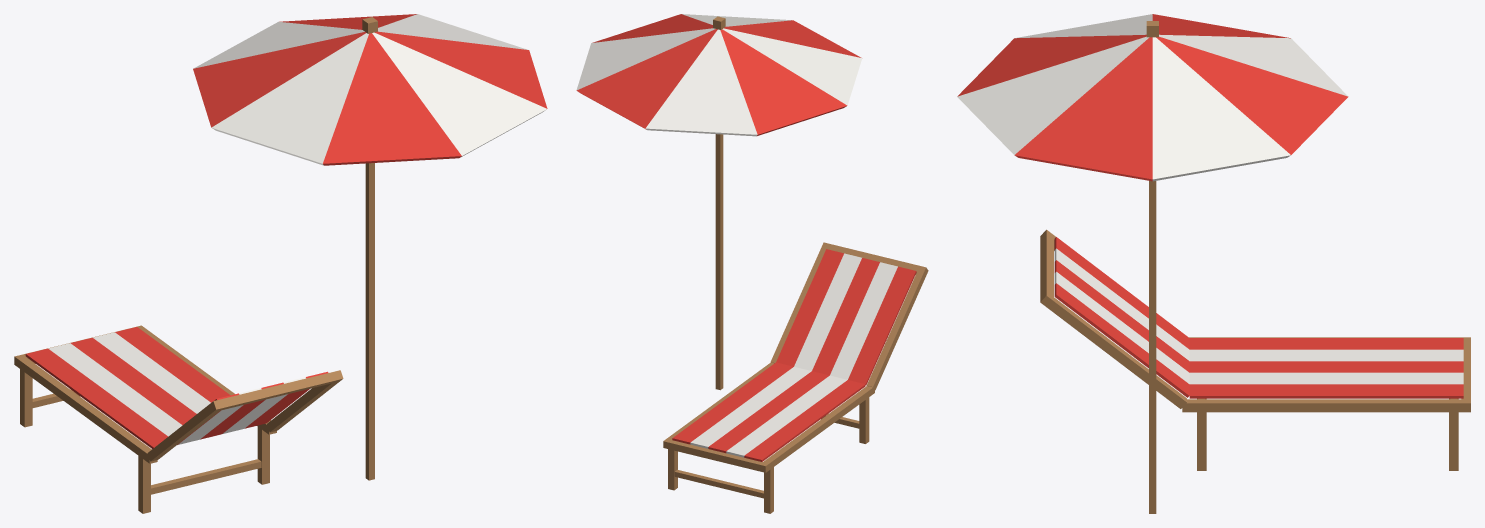
Rendered from sunbed.glb.
The picture shows the model from 3 angles, left to right: view 1: azimuth 30°, elevation 25°; view 2: azimuth 150°, elevation 25°; view 3: azimuth 270°, elevation 25°; orthographic projection. The views are drawn at different scales.
Parts seen in each view (by area): view 1: Parasol, Sunbed, Sunbed_Back; view 2: Parasol, Sunbed, Sunbed_Back; view 3: Parasol, Sunbed, Sunbed_Back.
Boxes of the visible parts, x1=… form: Parasol: x1=193, y1=14, x2=547, y2=480; Sunbed: x1=14, y1=325, x2=276, y2=513; Sunbed_Back: x1=147, y1=370, x2=343, y2=461; Parasol: x1=576, y1=14, x2=862, y2=390; Sunbed: x1=663, y1=362, x2=874, y2=513; Sunbed_Back: x1=770, y1=242, x2=928, y2=390; Parasol: x1=957, y1=14, x2=1348, y2=513; Sunbed: x1=1182, y1=337, x2=1470, y2=470; Sunbed_Back: x1=1040, y1=229, x2=1189, y2=408.
Size of the model in its own units: 1.84 by 2.2 by 2.1.
